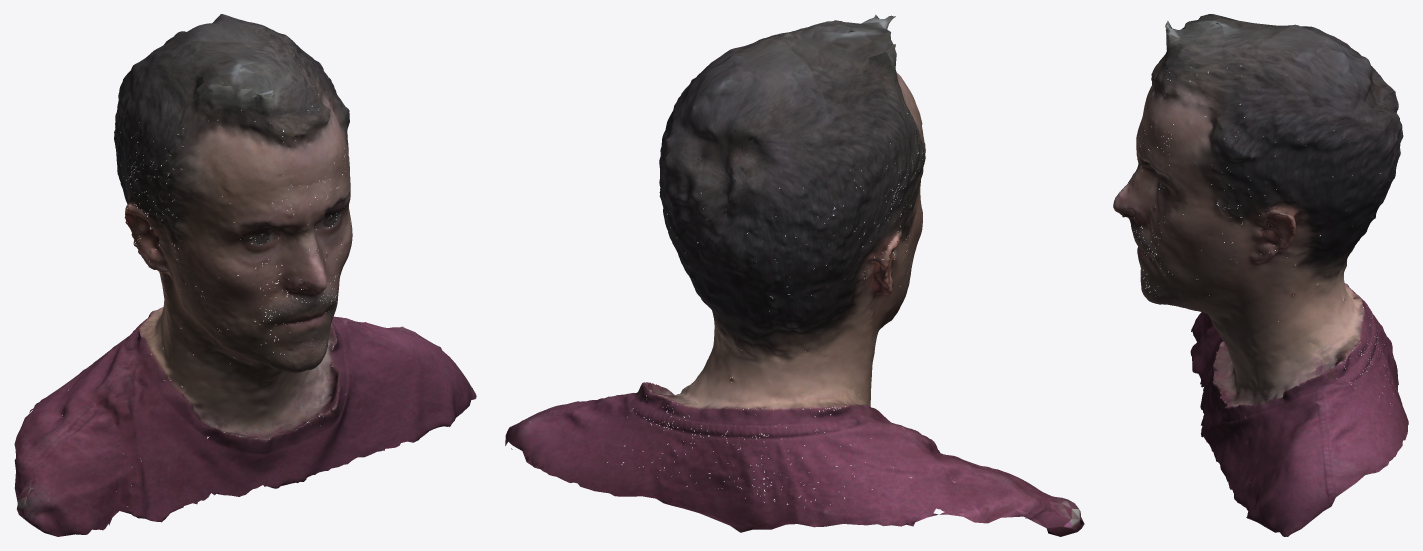
Rendered from gui_fradin_textured.glb.
3 views of the same model, side by side, from view 1: azimuth 30°, elevation 25°; view 2: azimuth 150°, elevation 25°; view 3: azimuth 270°, elevation 25° (orthographic). The views are drawn at different scales.
Bounding box in the file's own units: 1.26 × 1.05 × 0.7153.
1 material, 1 textured.
